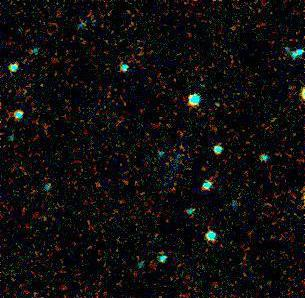star: (203, 89, 233, 119)
